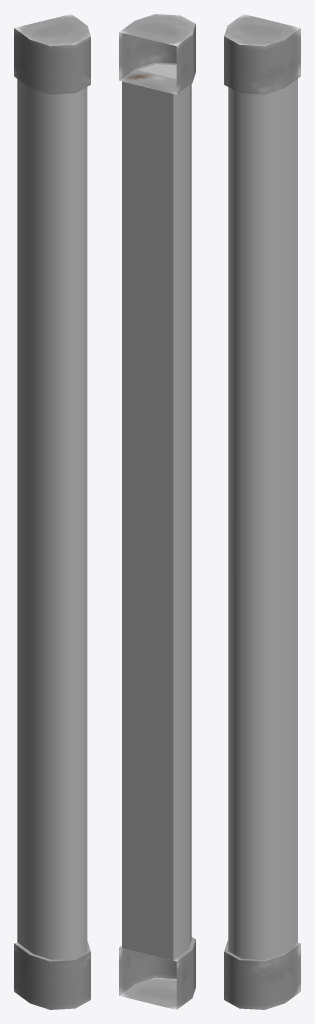
The model's file is SM_RestroomWallLamp.fbx.
3 renders of one model, left to right at view 1: azimuth 30°, elevation 25°; view 2: azimuth 150°, elevation 25°; view 3: azimuth 330°, elevation 25°, orthographic.
Parts seen in each view (by area): view 1: SM_RestroomWallLamp_LOD0; view 2: SM_RestroomWallLamp_LOD0; view 3: SM_RestroomWallLamp_LOD0.
Part boxes in pixels (box(x1,y1,x2,y2)): SM_RestroomWallLamp_LOD0: box(14, 14, 90, 1009); SM_RestroomWallLamp_LOD0: box(119, 14, 195, 1009); SM_RestroomWallLamp_LOD0: box(224, 14, 300, 1009).
Size of the model in its own units: 5.27 by 5.17 by 84.43.
